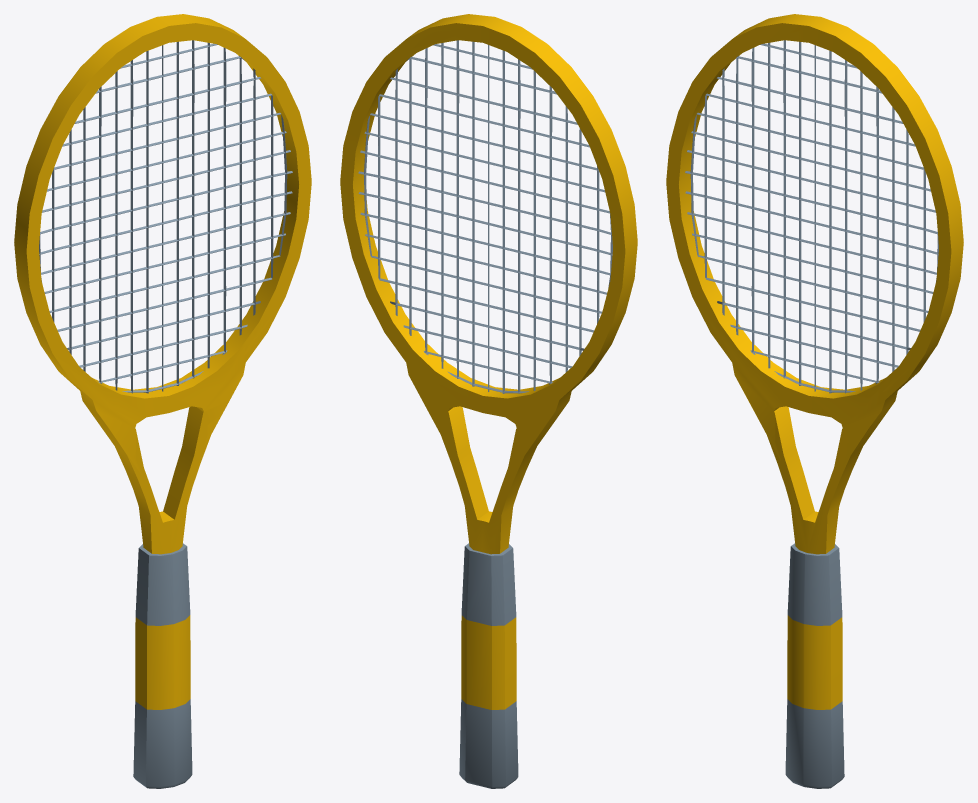
File: Tennis Racket_1.fbx
3 renders of one model, left to right at view 1: azimuth 30°, elevation 25°; view 2: azimuth 150°, elevation 25°; view 3: azimuth 330°, elevation 25°, orthographic.
Parts seen in each view (by area): view 1: Tennis Racket_1; view 2: Tennis Racket_1; view 3: Tennis Racket_1.
Part boxes in pixels (left/top/right/bottom): Tennis Racket_1: left=14, top=14, right=311, bottom=788; Tennis Racket_1: left=340, top=14, right=637, bottom=788; Tennis Racket_1: left=666, top=14, right=963, bottom=788.
Bounding box in the file's own units: 0.232 × 0.5887 × 0.0312.
